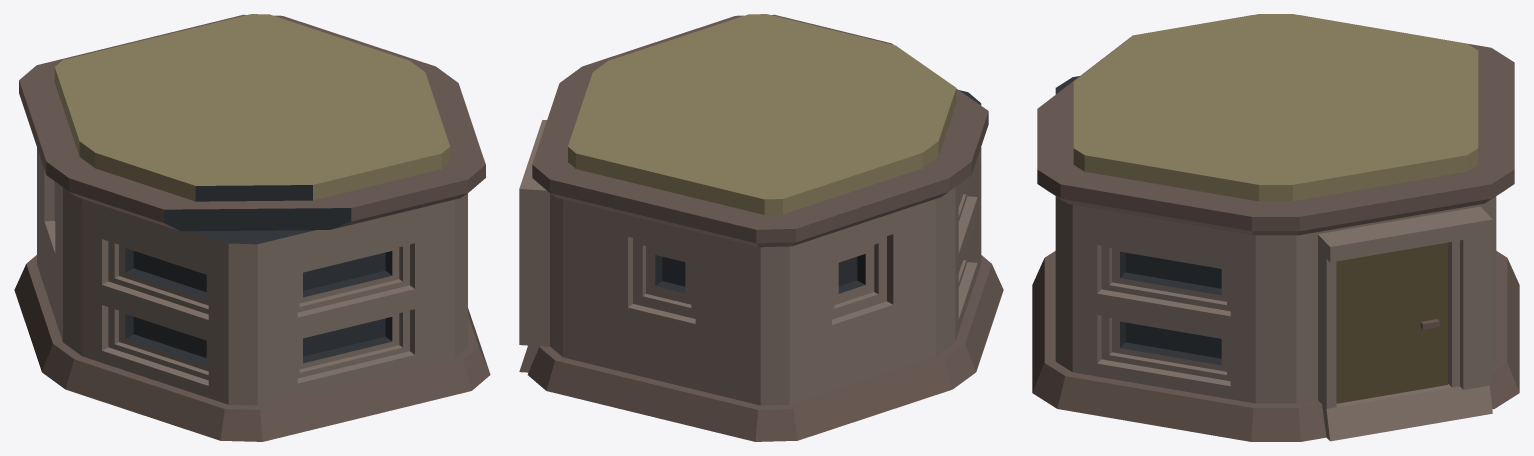
File: concrete-pillbox-ea855a.glb
3 renders of one model, left to right at view 1: azimuth 30°, elevation 25°; view 2: azimuth 150°, elevation 25°; view 3: azimuth 270°, elevation 25°, orthographic. The views are drawn at different scales.
Parts seen in each view (by area): view 1: pillbox; view 2: pillbox; view 3: pillbox, door-leaf.
Boxes of the visible parts, x1=… form: pillbox: x1=14, y1=14, x2=490, y2=441; pillbox: x1=519, y1=14, x2=1003, y2=441; pillbox: x1=1032, y1=14, x2=1519, y2=441; door-leaf: x1=1336, y1=242, x2=1447, y2=403.
Size of the model in its own units: 4 by 2.17 by 4.
